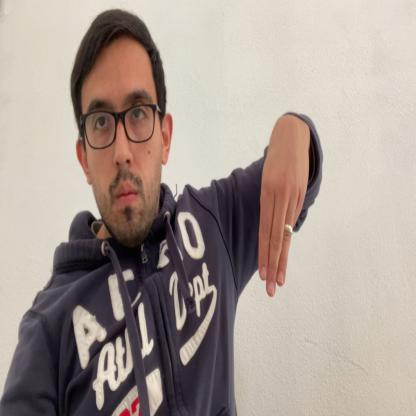M: (258, 110, 312, 301)
